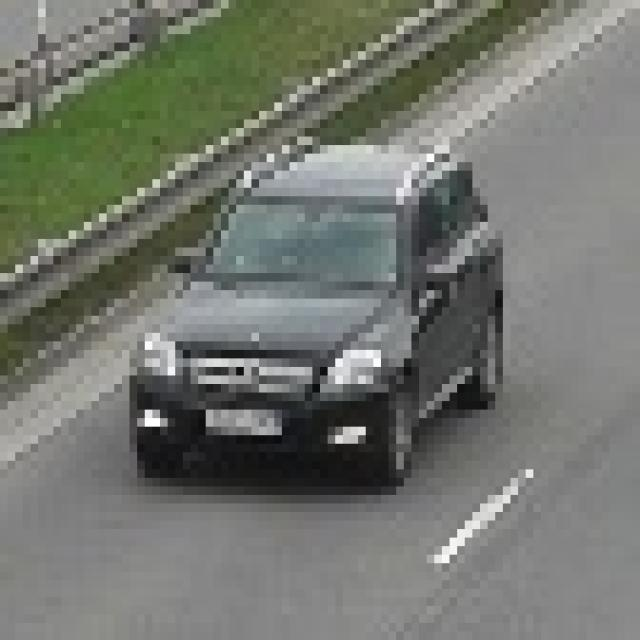SUV: (144, 160, 482, 474)
